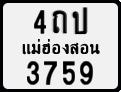letters: (72, 5, 89, 35), (51, 9, 68, 35), (61, 59, 76, 86), (32, 9, 47, 35), (43, 60, 58, 86), (79, 60, 94, 86), (26, 60, 40, 86)
province: (21, 37, 101, 56)
